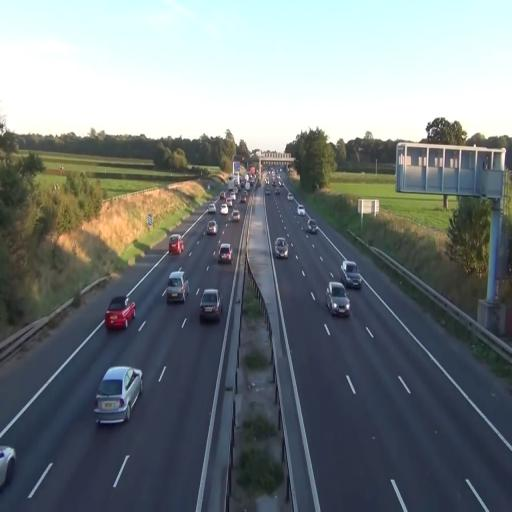vehicle: (94, 364, 142, 426), (94, 367, 143, 424), (104, 295, 136, 332), (105, 296, 135, 329), (326, 280, 350, 317), (198, 288, 222, 323), (326, 282, 349, 316), (165, 270, 187, 305), (0, 443, 16, 491), (166, 271, 189, 303), (200, 289, 222, 322), (0, 446, 15, 489), (342, 260, 362, 290), (341, 261, 361, 288), (274, 236, 290, 259), (216, 242, 232, 264), (169, 234, 184, 254), (218, 244, 232, 263), (275, 238, 288, 258), (206, 222, 218, 236), (206, 221, 217, 235), (232, 208, 242, 222), (308, 222, 319, 234), (306, 221, 316, 234), (308, 220, 317, 233), (297, 205, 305, 216), (232, 210, 240, 221), (208, 204, 216, 214), (220, 204, 228, 214), (228, 178, 234, 191), (241, 191, 247, 202), (287, 193, 294, 201), (226, 198, 232, 207), (230, 192, 236, 201), (246, 181, 251, 190), (220, 192, 225, 200), (265, 187, 270, 194), (250, 178, 254, 186), (234, 187, 238, 194), (275, 188, 279, 194), (272, 180, 275, 186), (280, 182, 283, 187)
